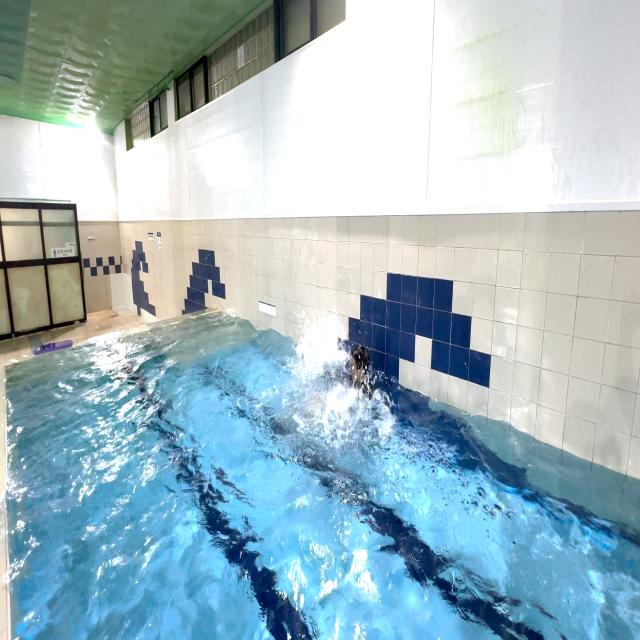Swimming: (289, 307, 391, 440)
